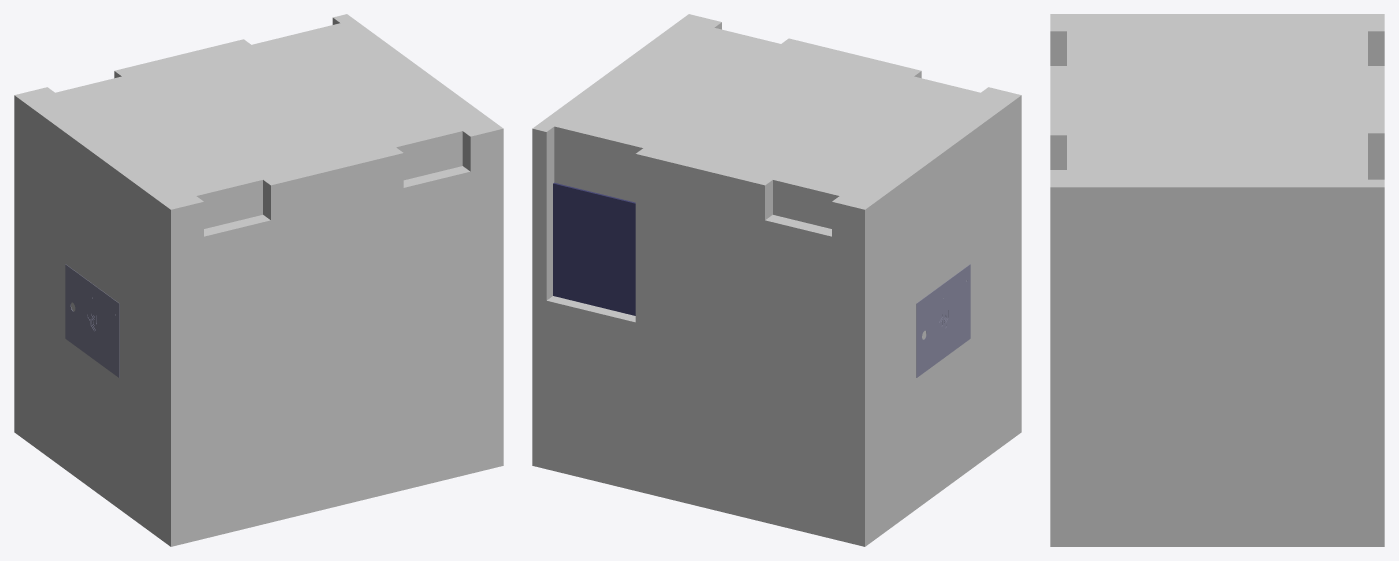
Rendered from assembly.glb.
3 views of the same model, side by side, from view 1: azimuth 30°, elevation 25°; view 2: azimuth 150°, elevation 25°; view 3: azimuth 270°, elevation 25° (orthographic). The views are drawn at different scales.
Parts seen in each view (by area): view 1: container_shell, ARC-PLT-CG; view 2: container_shell, GRD-SWG-001, ARC-PLT-CG; view 3: container_shell.
Boxes of the visible parts, <box> form: container_shell: <box>14,14,503,546</box>; ARC-PLT-CG: <box>65,264,119,377</box>; container_shell: <box>532,14,1021,546</box>; GRD-SWG-001: <box>553,182,635,315</box>; ARC-PLT-CG: <box>916,264,970,377</box>; container_shell: <box>1050,14,1384,546</box>.
Size of the model in its own units: 2994 by 2896 by 2438.
